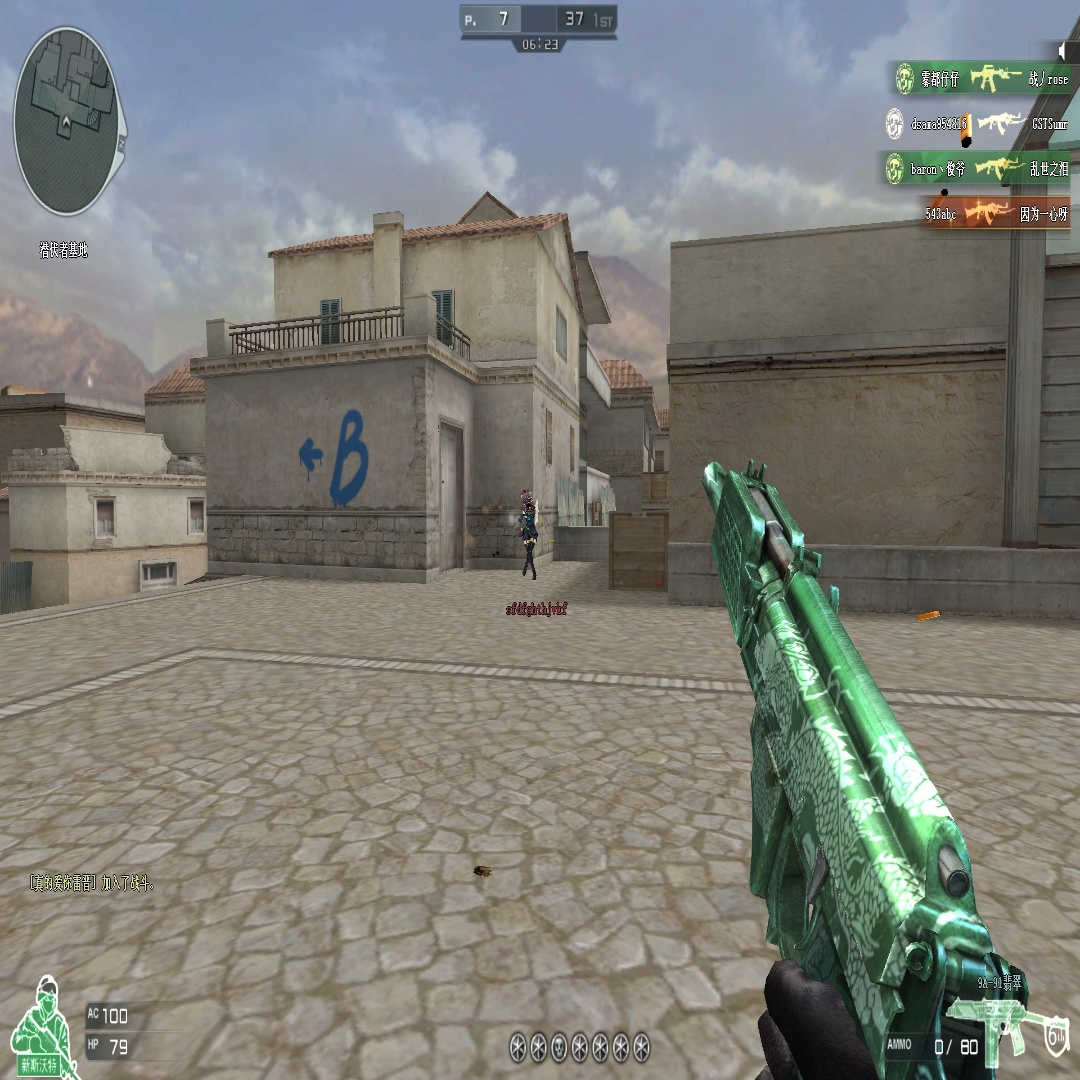p: (519, 488, 539, 580)
